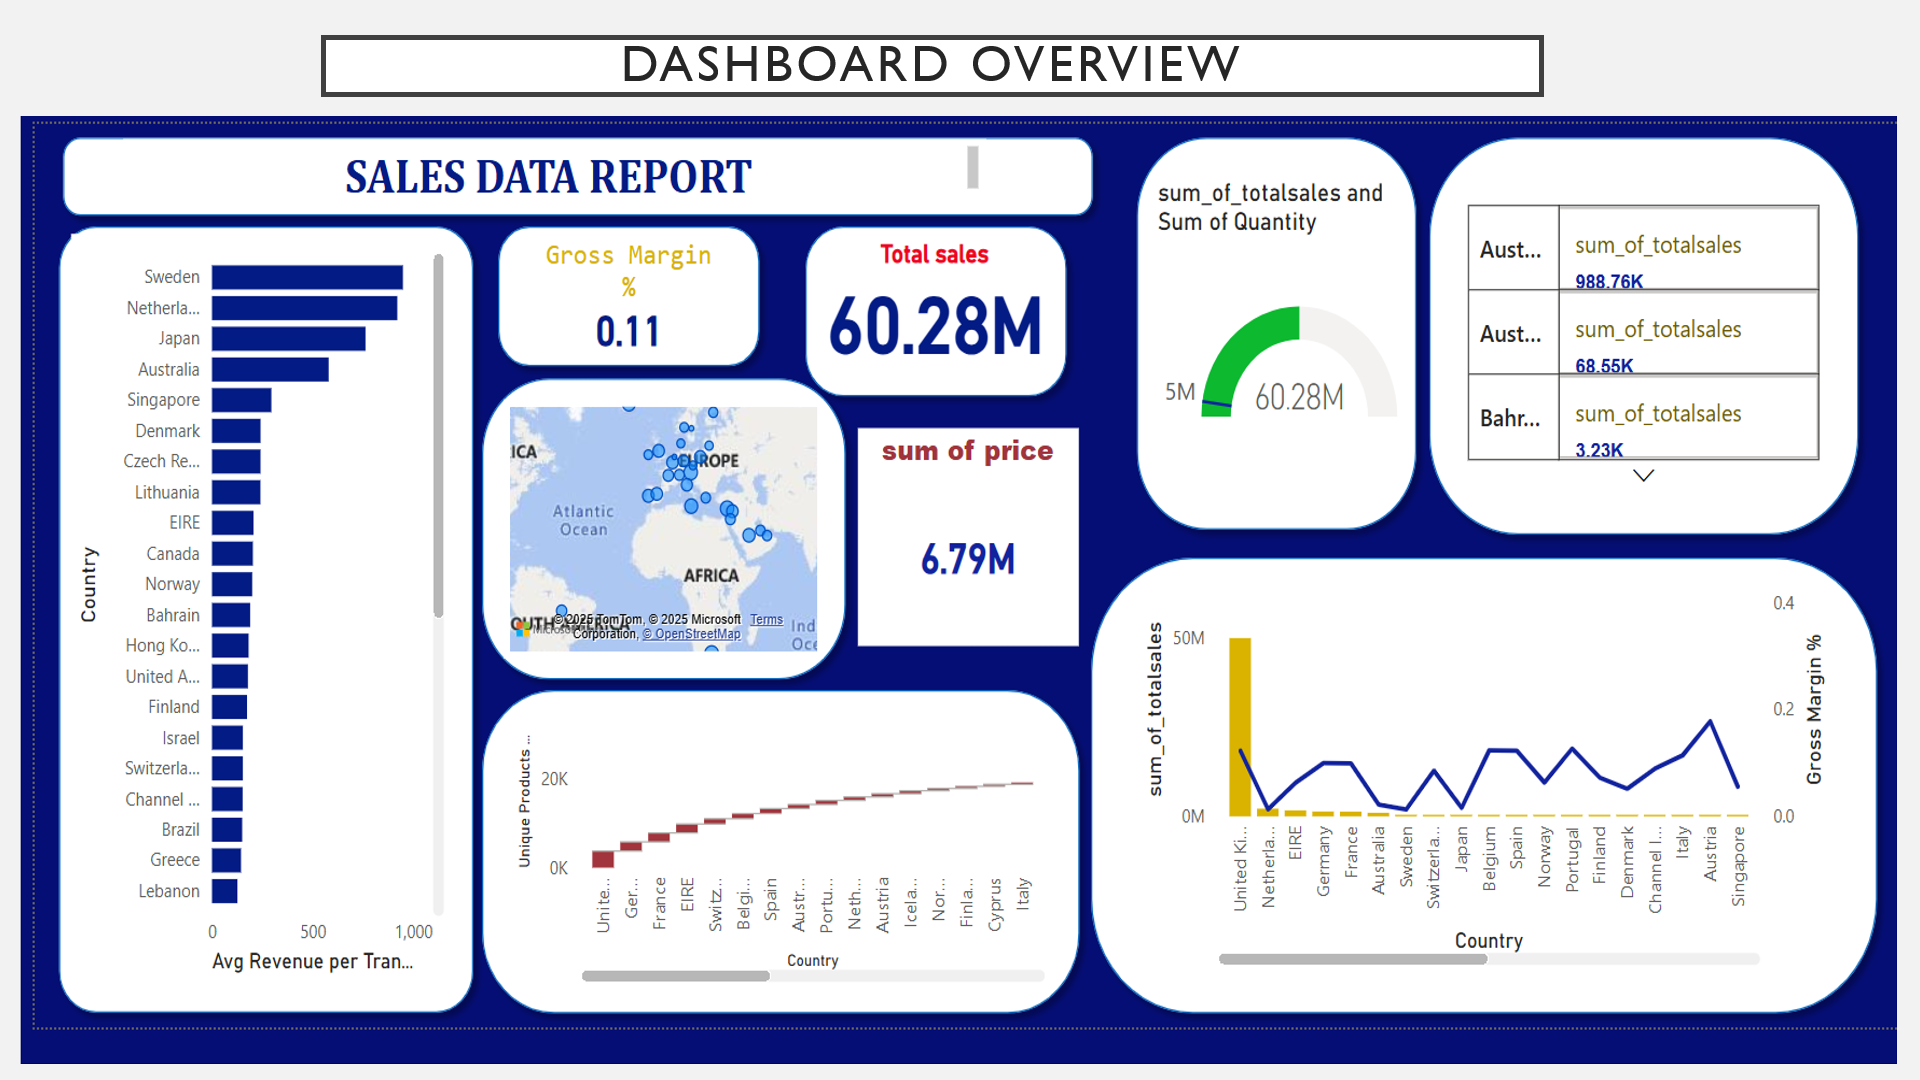

Layout of this report page (visuals, bound fields, positions):
{"tool":"powerbi","page":{"name":"Dashboard","canvas":[1800,600],"ordinal":0},"visuals":[{"type":"shape","box":[9,59,326,261],"z":0},{"type":"clusteredBarChart","fields":{"Category":["Sales Transaction v 4a (2).Country"],"Y":["Sales Transaction v 4a (2).Avg Revenue per Transaction"]},"box":[27,73,282,227],"z":1000},{"type":"shape","box":[12,0,783,70],"z":2000},{"type":"textbox","box":[66,10,640,49],"z":3000},{"type":"shape","box":[1146,21,212,150],"z":4000},{"type":"shape","box":[1146,183,212,150],"z":5000},{"type":"shape","box":[1041,339,317,261],"z":6000},{"type":"shape","box":[809,0,337,320],"z":7000},{"type":"shape","box":[335,73,450,218],"z":8000},{"type":"shape","box":[0,320,517,280],"z":9000},{"type":"shape","box":[527,308,514,292],"z":10000},{"type":"gauge","fields":{"Y":["Sales Transaction v 4a (2).sum_of_totalsales"],"TargetValue":["Sum(Sales Transaction v 4a (2).Quantity)"]},"box":[1075,381,250,179],"z":11000},{"type":"card","title":"Gross Margin %","fields":{"Values":["Sales Transaction v 4a (2).Profit Margin %"]},"box":[1163,46,178,101],"z":12000},{"type":"lineClusteredColumnComboChart","fields":{"Category":["Sales Transaction v 4a (2).Country"],"Y":["Sales Transaction v 4a (2).sum_of_totalsales"],"Y2":["Sales Transaction v 4a (2).Profit Margin %"]},"box":[36,339,436,232],"z":13000},{"type":"map","fields":{"Category":["Sales Transaction v 4a (2).Country"],"Size":["Sales Transaction v 4a (2).Profit Margin %"]},"box":[365,98,375,169],"z":14000},{"type":"waterfallChart","fields":{"Y":["Sales Transaction v 4a (2).Unique Products Sold"],"Category":["Sales Transaction v 4a (2).Country"]},"box":[578,326,412,258],"z":15000},{"type":"cardVisual","fields":{"Data":["Sales Transaction v 4a (2).sum_of_totalsales"],"Rows":["Sales Transaction v 4a (2).Country"]},"box":[838,47,281,226],"z":16000},{"type":"card","title":"Total sales","fields":{"Values":["Sum(Sales Transaction v 4a (2).total sales)"]},"box":[1166,207,173,101],"z":17000}]}

Visuals, with their boxes on the page's 1800x600 design canvas (x1, y1, x2, y2). These are canvas units, not pixel positions in the 1920x1080 screenshot, which may show the page scaled, cropped or inside an application window:
shape: (9,59,335,320)
clusteredBarChart - Sales Transaction v 4a (2).Country x Sales Transaction v 4a (2).Avg Revenue per Transaction: (27,73,309,300)
shape: (12,0,795,70)
textbox: (66,10,706,59)
shape: (1146,21,1358,171)
shape: (1146,183,1358,333)
shape: (1041,339,1358,600)
shape: (809,0,1146,320)
shape: (335,73,785,291)
shape: (0,320,517,600)
shape: (527,308,1041,600)
gauge - Sales Transaction v 4a (2).sum_of_totalsales x Sum(Sales Transaction v 4a (2).Quantity): (1075,381,1325,560)
"Gross Margin %" card: (1163,46,1341,147)
lineClusteredColumnComboChart - Sales Transaction v 4a (2).Country x Sales Transaction v 4a (2).sum_of_totalsales: (36,339,472,571)
map - Sales Transaction v 4a (2).Country x Sales Transaction v 4a (2).Profit Margin %: (365,98,740,267)
waterfallChart - Sales Transaction v 4a (2).Unique Products Sold x Sales Transaction v 4a (2).Country: (578,326,990,584)
cardVisual - Sales Transaction v 4a (2).sum_of_totalsales x Sales Transaction v 4a (2).Country: (838,47,1119,273)
"Total sales" card: (1166,207,1339,308)
